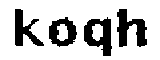h: (116, 6, 149, 53)
k: (8, 6, 47, 47)
o: (46, 17, 78, 48)
q: (83, 17, 114, 59)
